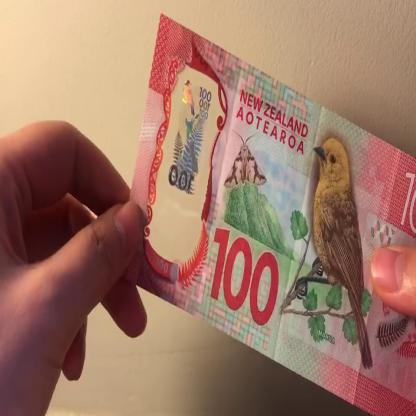100B: (168, 72, 217, 209)
